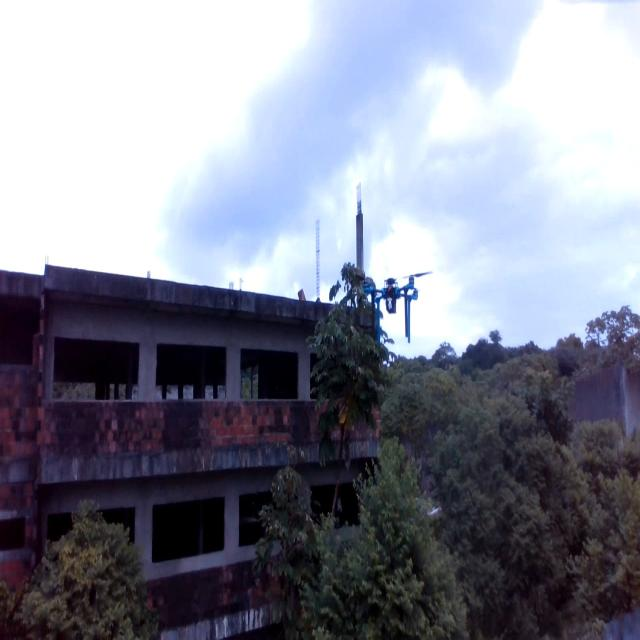-uav-: (352, 258, 436, 348)
